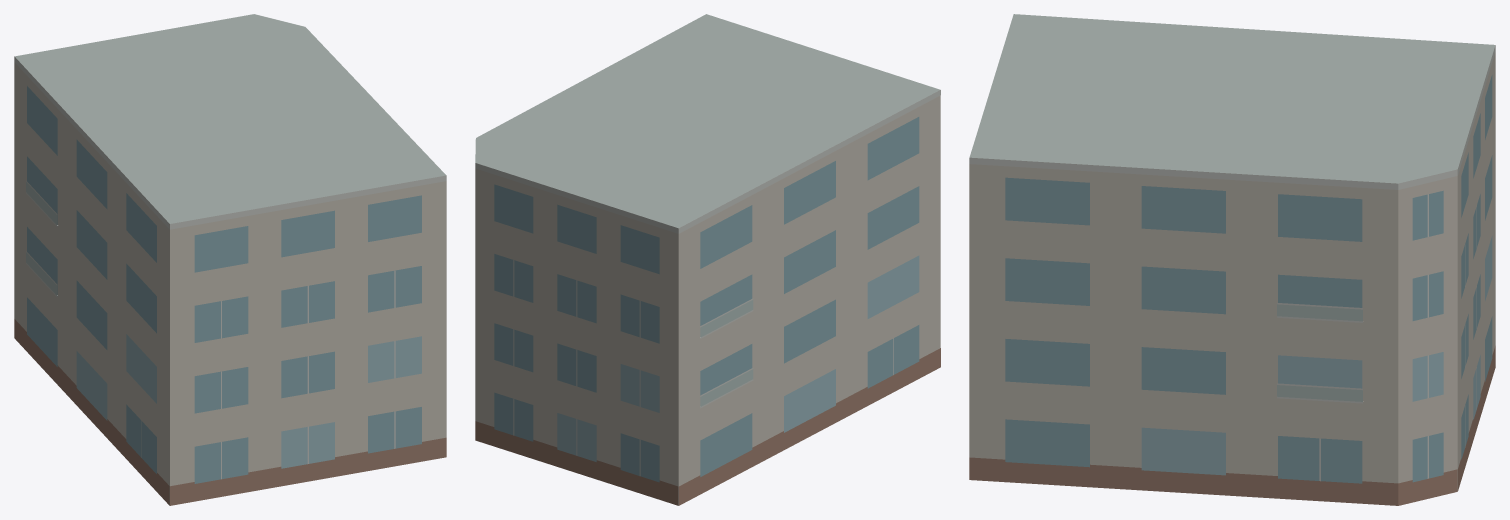
The model's file is survey-upis-32675971.glb.
3 views of the same model, side by side, from view 1: azimuth 30°, elevation 25°; view 2: azimuth 150°, elevation 25°; view 3: azimuth 270°, elevation 25° (orthographic). The views are drawn at different scales.
Parts seen in each view (by area): view 1: survey-upis-32675971.tmp; view 2: survey-upis-32675971.tmp; view 3: survey-upis-32675971.tmp.
Part boxes in pixels (bbox=[...]): survey-upis-32675971.tmp: bbox=[14, 14, 446, 505]; survey-upis-32675971.tmp: bbox=[475, 14, 940, 505]; survey-upis-32675971.tmp: bbox=[969, 14, 1495, 505].
Bounding box in the file's own units: 13.77 × 12.2 × 18.06.
